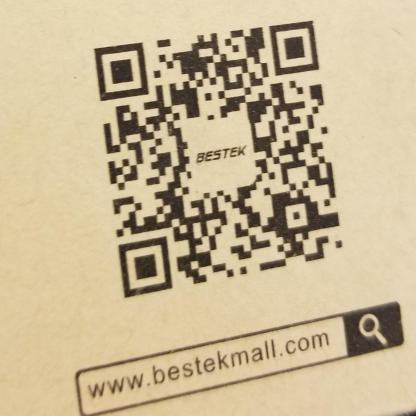qr: (85, 17, 353, 302)
